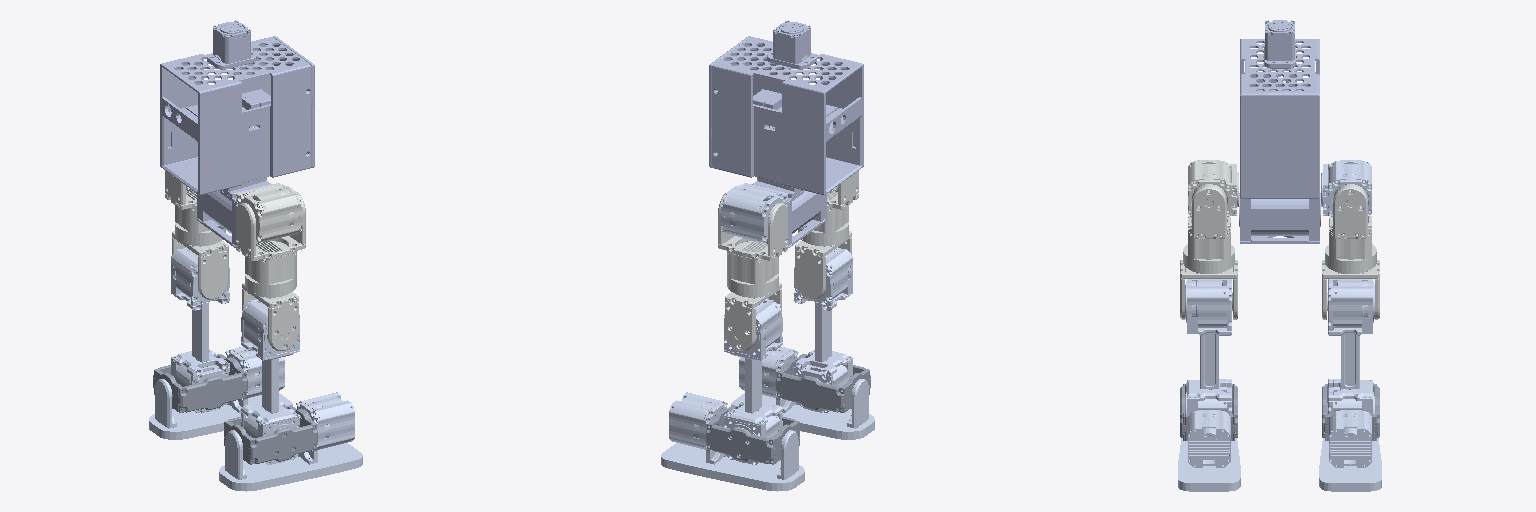
robot.urdf — pi_12dof_250630:
<?xml version="1.0" encoding="utf-8"?>
<!-- This URDF was automatically created by SolidWorks to URDF Exporter! Originally created by Stephen Brawner (brawner@gmail.com) 
     Commit Version: 1.6.0-4-g7f85cfe  Build Version: 1.6.7995.38578
     For more information, please see http://wiki.ros.org/sw_urdf_exporter -->
<robot name="pi_12dof_250630">
	<mujoco>
		<compiler meshdir="../meshes/" balanceinertia="true" discardvisual="false" />
	</mujoco>
  <link
    name="base_link">
    <inertial>
      <origin
        xyz="1.35E-05 -1.07E-05 0.0442434"
        rpy="0 0 0" />
      <mass
        value="2.0418952" />
      <inertia
        ixx="0.0120071"
        ixy="-5.1E-06"
        ixz="7.45E-05"
        iyy="0.0127678"
        iyz="-1.5E-06"
        izz="0.0054444" />
    </inertial>
    <visual>
      <origin
        xyz="0 0 0"
        rpy="0 0 0" />
      <geometry>
        <mesh
          filename="../meshes/base_link.STL" />
      </geometry>
      <material
        name="">
        <color
          rgba="0.79216 0.81961 0.93333 1" />
      </material>
    </visual>
    <collision>
      <origin
        xyz="0 0 0.09"
        rpy="0 0 0" />
      <geometry>
        <box size="0.17 0.10 0.15" />
        <!-- <mesh filename="../meshes/base_link.STL" /> -->
      </geometry>
    </collision>
  </link>
  <link
    name="l_hip_pitch_link">
    <inertial>
      <origin
        xyz="0.0013014 0.032205 0.0003912"
        rpy="0 0 0" />
      <mass
        value="0.39951" />
      <inertia
        ixx="0.0001056"
        ixy="-1.5E-06"
        ixz="-1E-07"
        iyy="9.81E-05"
        iyz="-2E-07"
        izz="0.0001261" />
    </inertial>
    <visual>
      <origin
        xyz="0 0 0"
        rpy="0 0 0" />
      <geometry>
        <mesh
          filename="../meshes/l_hip_pitch_link.STL" />
      </geometry>
      <material
        name="">
        <color
          rgba="0.86667 0.9098 1 1" />
      </material>
    </visual>
    <collision>
      <origin
        xyz="0 0.035 0"
        rpy="0 0 0" />
      <geometry>
        <box size="0.05 0.05 0.05" />
      </geometry>
    </collision>
  </link>
  <joint
    name="l_hip_pitch_joint"
    type="revolute">
    <origin
      xyz="-0.00012614 0.0465 -0.026155"
      rpy="0 0 0" />
    <parent
      link="base_link" />
    <child
      link="l_hip_pitch_link" />
    <axis
      xyz="0 1 0" />
    <limit
      lower="-3.14"
      upper="3.14"
      effort="21"
      velocity="21" />
  </joint>
  <link
    name="l_hip_roll_link">
    <inertial>
      <origin
        xyz="-0.0233996 9.54E-05 -0.06133"
        rpy="0 0 0" />
      <mass
        value="0.4853536" />
      <inertia
        ixx="0.0004745"
        ixy="-5E-07"
        ixz="-2.02E-05"
        iyy="0.000569"
        iyz="2E-07"
        izz="0.0002237" />
    </inertial>
    <visual>
      <origin
        xyz="0 0 0"
        rpy="0 0 0" />
      <geometry>
        <mesh
          filename="../meshes/l_hip_roll_link.STL" />
      </geometry>
      <material
        name="">
        <color
          rgba="0.89804 0.91765 0.92941 1" />
      </material>
    </visual>
    <collision>
      <origin
        xyz="-0.025 0 -0.07"
        rpy="0 0 0" />
      <geometry>
        <box size="0.05 0.05 0.05" />
      </geometry>
    </collision>
  </link>
  <joint
    name="l_hip_roll_joint"
    type="revolute">
    <origin
      xyz="0.02425 0.035 0.00065509"
      rpy="0 0 0" />
    <parent
      link="l_hip_pitch_link" />
    <child
      link="l_hip_roll_link" />
    <axis
      xyz="1 0 0" />
    <limit
      lower="-3.14"
      upper="3.14"
      effort="21"
      velocity="21" />
  </joint>
  <link
    name="l_hip_thigh_link">
    <inertial>
      <origin
        xyz="0 -0.0013541 -0.023213"
        rpy="0 0 0" />
      <mass
        value="0.1087" />
      <inertia
        ixx="0.0001195"
        ixy="0"
        ixz="0"
        iyy="5.49E-05"
        iyz="-3.2E-06"
        izz="9.14E-05" />
    </inertial>
    <visual>
      <origin
        xyz="0 0 0"
        rpy="0 0 0" />
      <geometry>
        <mesh
          filename="../meshes/l_hip_thigh_link.STL" />
      </geometry>
      <material
        name="">
        <color
          rgba="0.89804 0.91765 0.92941 1" />
      </material>
    </visual>
    <collision>
      <origin
        xyz="0 0 -0.0033"
        rpy="0 0 0" />
      <geometry>
        <box size="0.008 0.008 0.008" />
      </geometry>
    </collision>
  </link>
  <joint
    name="l_hip_thigh_joint"
    type="revolute">
    <origin
      xyz="-0.0245 0 -0.0977"
      rpy="0 0 0" />
    <parent
      link="l_hip_roll_link" />
    <child
      link="l_hip_thigh_link" />
    <axis
      xyz="0 0 1" />
    <limit
      lower="-3.14"
      upper="3.14"
      effort="21"
      velocity="21" />
  </joint>
  <link
    name="l_hip_calf_link">
    <inertial>
      <origin
        xyz="-1.33E-05 -0.024184 -0.0666513"
        rpy="0 0 0" />
      <mass
        value="0.8239826" />
      <inertia
        ixx="0.0038341"
        ixy="0"
        ixz="-1.55E-05"
        iyy="0.0038216"
        iyz="0"
        izz="0.0001843" />
    </inertial>
    <visual>
      <origin
        xyz="0 0 0"
        rpy="0 0 0" />
      <geometry>
        <mesh
          filename="../meshes/l_hip_calf_link.STL" />
      </geometry>
      <material
        name="">
        <color
          rgba="0.86667 0.9098 1 1" />
      </material>
    </visual>
    <collision name="1">
      <origin
        xyz="0 -0.027 0"
        rpy="0 0 0" />
      <geometry>
          <box size="0.05 0.05 0.05" />
      </geometry>
    </collision>
    <collision name="2">
      <origin
        xyz="0 -0.028 -0.06"
        rpy="0 0 0" />
      <geometry>
          <box size="0.01 0.02 0.08" />
      </geometry>
    </collision>
  </link>
  <joint
    name="l_hip_calf_joint"
    type="revolute">
    <origin
      xyz="0 0.027 -0.048349"
      rpy="0 0 0" />
    <parent
      link="l_hip_thigh_link" />
    <child
      link="l_hip_calf_link" />
    <axis
      xyz="0 1 0" />
    <limit
      lower="-3.14"
      upper="3.14"
      effort="21"
      velocity="21" />
  </joint>
  <link
    name="l_ankle_pitch_link">
    <inertial>
      <origin
        xyz="0.0069349 -0.027917 -0.0033334"
        rpy="0 0 0" />
      <mass
        value="0.15648" />
      <inertia
        ixx="0.0001151"
        ixy="-1E-06"
        ixz="-1E-07"
        iyy="0.0001831"
        iyz="0"
        izz="0.0002664" />
    </inertial>
    <visual>
      <origin
        xyz="0 0 0"
        rpy="0 0 0" />
      <geometry>
        <mesh
          filename="../meshes/l_ankle_pitch_link.STL" />
      </geometry>
      <material
        name="">
        <color
          rgba="0.66667 0.69804 0.76471 1" />
      </material>
    </visual>
    <collision>
      <origin
        xyz="0 -0.028 0"
        rpy="0 0 0" />
      <geometry>
        <box size="0.04 0.04 0.04" />
      </geometry>
    </collision>
  </link>
  <joint
    name="l_ankle_pitch_joint"
    type="revolute">
    <origin
      xyz="0 0 -0.1333"
      rpy="0 0 0" />
    <parent
      link="l_hip_calf_link" />
    <child
      link="l_ankle_pitch_link" />
    <axis
      xyz="0 1 0" />
    <limit
      lower="-3.14"
      upper="3.14"
      effort="21"
      velocity="21" />
  </joint>
  <link
    name="l_ankle_roll_link">
    <inertial>
      <origin
        xyz="-0.0072422 0.0001481 -0.0222639"
        rpy="0 0 0" />
      <mass
        value="0.7295353" />
      <inertia
        ixx="0.0005325"
        ixy="-3.2E-06"
        ixz="-0.0003002"
        iyy="0.0017975"
        iyz="-1.9E-06"
        izz="0.0015754" />
    </inertial>
    <visual>
      <origin
        xyz="0 0 0"
        rpy="0 0 0" />
      <geometry>
        <mesh
          filename="../meshes/l_ankle_roll_link.STL" />
      </geometry>
      <material
        name="">
        <color
          rgba="0.86667 0.9098 1 1" />
      </material>
    </visual>
    <collision>
      <origin
        xyz="0.057 -0.035 -0.05"
        rpy="0 0 1.57" />
      <geometry>
        <mesh filename="../meshes/foot.STL" scale="0.001 0.001 0.001"/>
      </geometry>
    </collision>
  </link>
  <joint
    name="l_ankle_roll_joint"
    type="revolute">
    <origin
      xyz="0.052 -0.027 -0.0033487"
      rpy="0 0 0" />
    <parent
      link="l_ankle_pitch_link" />
    <child
      link="l_ankle_roll_link" />
    <axis
      xyz="1 0 0" />
    <limit
      lower="-3.14"
      upper="3.14"
      effort="21"
      velocity="21" />
  </joint>
  <link
    name="r_hip_pitch_link">
    <inertial>
      <origin
        xyz="0.0013025 -0.0322052 0.0009189"
        rpy="0 0 0" />
      <mass
        value="0.3995053" />
      <inertia
        ixx="0.0001056"
        ixy="1.5E-06"
        ixz="1E-07"
        iyy="9.81E-05"
        iyz="-2E-07"
        izz="0.0001261" />
    </inertial>
    <visual>
      <origin
        xyz="0 0 0"
        rpy="0 0 0" />
      <geometry>
        <mesh
          filename="../meshes/r_hip_pitch_link.STL" />
      </geometry>
      <material
        name="">
        <color
          rgba="0.89804 0.91765 0.92941 1" />
      </material>
    </visual>
    <collision>
      <origin
        xyz="0 -0.035 0"
        rpy="0 0 0" />
      <geometry>
        <box size="0.05 0.05 0.05" />
      </geometry>
    </collision>
  </link>
  <joint
    name="r_hip_pitch_joint"
    type="revolute">
    <origin
      xyz="-0.00012614 -0.0465 -0.026155"
      rpy="0 0 0" />
    <parent
      link="base_link" />
    <child
      link="r_hip_pitch_link" />
    <axis
      xyz="0 1 0" />
    <limit
      lower="-3.14"
      upper="3.14"
      effort="21"
      velocity="21" />
  </joint>
  <link
    name="r_hip_roll_link">
    <inertial>
      <origin
        xyz="-0.0233996 9.54E-05 -0.06133"
        rpy="0 0 0" />
      <mass
        value="0.4853536" />
      <inertia
        ixx="0.0004745"
        ixy="-5E-07"
        ixz="-2.02E-05"
        iyy="0.000569"
        iyz="2E-07"
        izz="0.0002237" />
    </inertial>
    <visual>
      <origin
        xyz="0 0 0"
        rpy="0 0 0" />
      <geometry>
        <mesh
          filename="../meshes/r_hip_roll_link.STL" />
      </geometry>
      <material
        name="">
        <color
          rgba="0.89804 0.91765 0.92941 1" />
      </material>
    </visual>
    <collision>
      <origin
        xyz="-0.025 0 -0.07"
        rpy="0 0 0" />
      <geometry>
        <box size="0.05 0.05 0.05" />
      </geometry>
    </collision>
  </link>
  <joint
    name="r_hip_roll_joint"
    type="revolute">
    <origin
      xyz="0.02425 -0.035 0.00065509"
      rpy="0 0 0" />
    <parent
      link="r_hip_pitch_link" />
    <child
      link="r_hip_roll_link" />
    <axis
      xyz="1 0 0" />
    <limit
      lower="-3.14"
      upper="3.14"
      effort="21"
      velocity="21" />
  </joint>
  <link
    name="r_hip_thigh_link">
    <inertial>
      <origin
        xyz="0 0.0013541 -0.023213"
        rpy="0 0 0" />
      <mass
        value="0.1087" />
      <inertia
        ixx="0.0001195"
        ixy="0"
        ixz="0"
        iyy="5.49E-05"
        iyz="3.2E-06"
        izz="9.14E-05" />
    </inertial>
    <visual>
      <origin
        xyz="0 0 0"
        rpy="0 0 0" />
      <geometry>
        <mesh
          filename="../meshes/r_hip_thigh_link.STL" />
      </geometry>
      <material
        name="">
        <color
          rgba="0.89804 0.91765 0.92941 1" />
      </material>
    </visual>
    <collision>
      <origin
        xyz="0 0 -0.0033"
        rpy="0 0 0" />
      <geometry>
        <box size="0.008 0.008 0.008" />
      </geometry>
    </collision>
  </link>
  <joint
    name="r_hip_thigh_joint"
    type="revolute">
    <origin
      xyz="-0.0245 0 -0.0977"
      rpy="0 0 0" />
    <parent
      link="r_hip_roll_link" />
    <child
      link="r_hip_thigh_link" />
    <axis
      xyz="0 0 1" />
    <limit
      lower="-3.14"
      upper="3.14"
      effort="21"
      velocity="21" />
  </joint>
  <link
    name="r_hip_calf_link">
    <inertial>
      <origin
        xyz="-1.33E-05 0.024184 -0.0666513"
        rpy="0 0 0" />
      <mass
        value="0.8239826" />
      <inertia
        ixx="0.0038341"
        ixy="0"
        ixz="1.55E-05"
        iyy="0.0038216"
        iyz="0"
        izz="0.0001843" />
    </inertial>
    <visual>
      <origin
        xyz="0 0 0"
        rpy="0 0 0" />
      <geometry>
        <mesh
          filename="../meshes/r_hip_calf_link.STL" />
      </geometry>
      <material
        name="">
        <color
          rgba="0.86667 0.9098 1 1" />
      </material>
    </visual>
    <collision name="1">
      <origin
        xyz="0 0.027 0"
        rpy="0 0 0" />
      <geometry>
          <box size="0.05 0.05 0.05" />
      </geometry>
    </collision>
    <collision name="2">
      <origin
        xyz="0 0.028 -0.06"
        rpy="0 0 0" />
      <geometry>
          <box size="0.01 0.02 0.08" />
      </geometry>
    </collision>
  </link>
  <joint
    name="r_hip_calf_joint"
    type="revolute">
    <origin
      xyz="0 -0.027 -0.048349"
      rpy="0 0 0" />
    <parent
      link="r_hip_thigh_link" />
    <child
      link="r_hip_calf_link" />
    <axis
      xyz="0 1 0" />
    <limit
      lower="-3.14"
      upper="3.14"
      effort="21"
      velocity="21" />
  </joint>
  <link
    name="r_ankle_pitch_link">
    <inertial>
      <origin
        xyz="0.0069349 0.027917 -0.003364"
        rpy="0 0 0" />
      <mass
        value="0.15648" />
      <inertia
        ixx="0.0001151"
        ixy="1E-06"
        ixz="1E-07"
        iyy="0.0001831"
        iyz="0"
        izz="0.0002664" />
    </inertial>
    <visual>
      <origin
        xyz="0 0 0"
        rpy="0 0 0" />
      <geometry>
        <mesh
          filename="../meshes/r_ankle_pitch_link.STL" />
      </geometry>
      <material
        name="">
        <color
          rgba="0.66667 0.69804 0.76471 1" />
      </material>
    </visual>
    <collision>
      <origin
        xyz="0 0.028 0"
        rpy="0 0 0" />
      <geometry>
        <box size="0.04 0.04 0.04" />
      </geometry>
    </collision>
  </link>
  <joint
    name="r_ankle_pitch_joint"
    type="revolute">
    <origin
      xyz="0 0 -0.1333"
      rpy="0 0 0" />
    <parent
      link="r_hip_calf_link" />
    <child
      link="r_ankle_pitch_link" />
    <axis
      xyz="0 1 0" />
    <limit
      lower="-3.14"
      upper="3.14"
      effort="21"
      velocity="21" />
  </joint>
  <link
    name="r_ankle_roll_link">
    <inertial>
      <origin
        xyz="-0.0040314 0.0001764 -0.0179706"
        rpy="0 0 0" />
      <mass
        value="0.6125751" />
      <inertia
        ixx="0.0004173"
        ixy="-2.9E-06"
        ixz="-0.0002475"
        iyy="0.0014249"
        iyz="-1.4E-06"
        izz="0.0012305" />
    </inertial>
    <visual>
      <origin
        xyz="0 0 0"
        rpy="0 0 0" />
      <geometry>
        <mesh
          filename="../meshes/r_ankle_roll_link.STL" />
      </geometry>
      <material
        name="">
        <color
          rgba="0.86667 0.9098 1 1" />
      </material>
    </visual>
    <collision>
      <origin
        xyz="0.057 -0.035 -0.05"
        rpy="0 0 1.57" />
      <geometry>
        <mesh filename="../meshes/foot.STL" scale="0.001 0.001 0.001"/>
      </geometry>
    </collision>
  </link>
  <joint
    name="r_ankle_roll_joint"
    type="revolute">
    <origin
      xyz="0.052 0.027 -0.0033487"
      rpy="0 0 0" />
    <parent
      link="r_ankle_pitch_link" />
    <child
      link="r_ankle_roll_link" />
    <axis
      xyz="1 0 0" />
    <limit
      lower="-3.14"
      upper="3.14"
      effort="21"
      velocity="21" />
  </joint>
</robot>

--- Facts derived from the render (not from the file) ---
3 views of the same robot in one strip: view 1: azimuth 30°, elevation 25°; view 2: azimuth 150°, elevation 25°; view 3: azimuth 270°, elevation 25° (orthographic).
Robot: pi_12dof_250630 — 13 links, 12 joints (12 revolute); root link base_link; default pose: every joint at zero.
Visible links, largest first — view 1: base_link, r_ankle_roll_link, l_ankle_roll_link, l_hip_calf_link, r_hip_calf_link, r_hip_roll_link, r_hip_pitch_link, l_ankle_pitch_link, r_ankle_pitch_link, l_hip_roll_link, r_hip_thigh_link, l_hip_thigh_link; view 2: base_link, l_ankle_roll_link, r_ankle_roll_link, r_hip_calf_link, l_hip_calf_link, l_hip_roll_link, l_hip_pitch_link, r_ankle_pitch_link, l_ankle_pitch_link, r_hip_roll_link, l_hip_thigh_link, r_hip_thigh_link; view 3: base_link, l_hip_calf_link, r_hip_calf_link, l_ankle_roll_link, r_ankle_roll_link, r_hip_roll_link, l_hip_roll_link, l_hip_pitch_link, r_hip_pitch_link, l_hip_thigh_link, r_hip_thigh_link, l_ankle_pitch_link (+1 smaller).
Link boxes in pixels (box(x1,y1,x2,y2)): base_link: box(160, 20, 314, 247); r_ankle_roll_link: box(219, 392, 362, 491); l_ankle_roll_link: box(149, 347, 292, 439); l_hip_calf_link: box(171, 247, 229, 412); r_hip_calf_link: box(241, 299, 299, 464); r_hip_roll_link: box(236, 191, 305, 297); r_hip_pitch_link: box(236, 183, 302, 242); l_ankle_pitch_link: box(153, 354, 247, 412); r_ankle_pitch_link: box(224, 405, 317, 464); l_hip_roll_link: box(165, 171, 225, 245); r_hip_thigh_link: box(242, 283, 298, 350); l_hip_thigh_link: box(172, 231, 228, 299); base_link: box(709, 20, 863, 247); l_ankle_roll_link: box(661, 392, 804, 491); r_ankle_roll_link: box(731, 347, 874, 439); r_hip_calf_link: box(794, 247, 852, 412); l_hip_calf_link: box(724, 299, 782, 464); l_hip_roll_link: box(718, 191, 787, 297); l_hip_pitch_link: box(721, 183, 787, 242); r_ankle_pitch_link: box(776, 354, 870, 412); l_ankle_pitch_link: box(706, 405, 799, 464); r_hip_roll_link: box(798, 171, 858, 245); l_hip_thigh_link: box(725, 283, 781, 350); r_hip_thigh_link: box(795, 231, 851, 299); base_link: box(1239, 20, 1320, 243); l_hip_calf_link: box(1328, 279, 1374, 414); r_hip_calf_link: box(1185, 279, 1231, 414); l_ankle_roll_link: box(1319, 410, 1381, 491); r_ankle_roll_link: box(1178, 410, 1240, 491); r_hip_roll_link: box(1183, 184, 1234, 273); l_hip_roll_link: box(1325, 184, 1376, 273); l_hip_pitch_link: box(1321, 160, 1371, 217); r_hip_pitch_link: box(1188, 160, 1238, 217); l_hip_thigh_link: box(1322, 260, 1379, 319); r_hip_thigh_link: box(1180, 260, 1237, 319); l_ankle_pitch_link: box(1322, 383, 1379, 440).
Bounding box of the posed robot: 0.1831 × 0.235 × 0.5388 m (x, y, z).
Meshes: 13 distinct files referenced, 13 mesh visuals loaded (13 binary STL).
